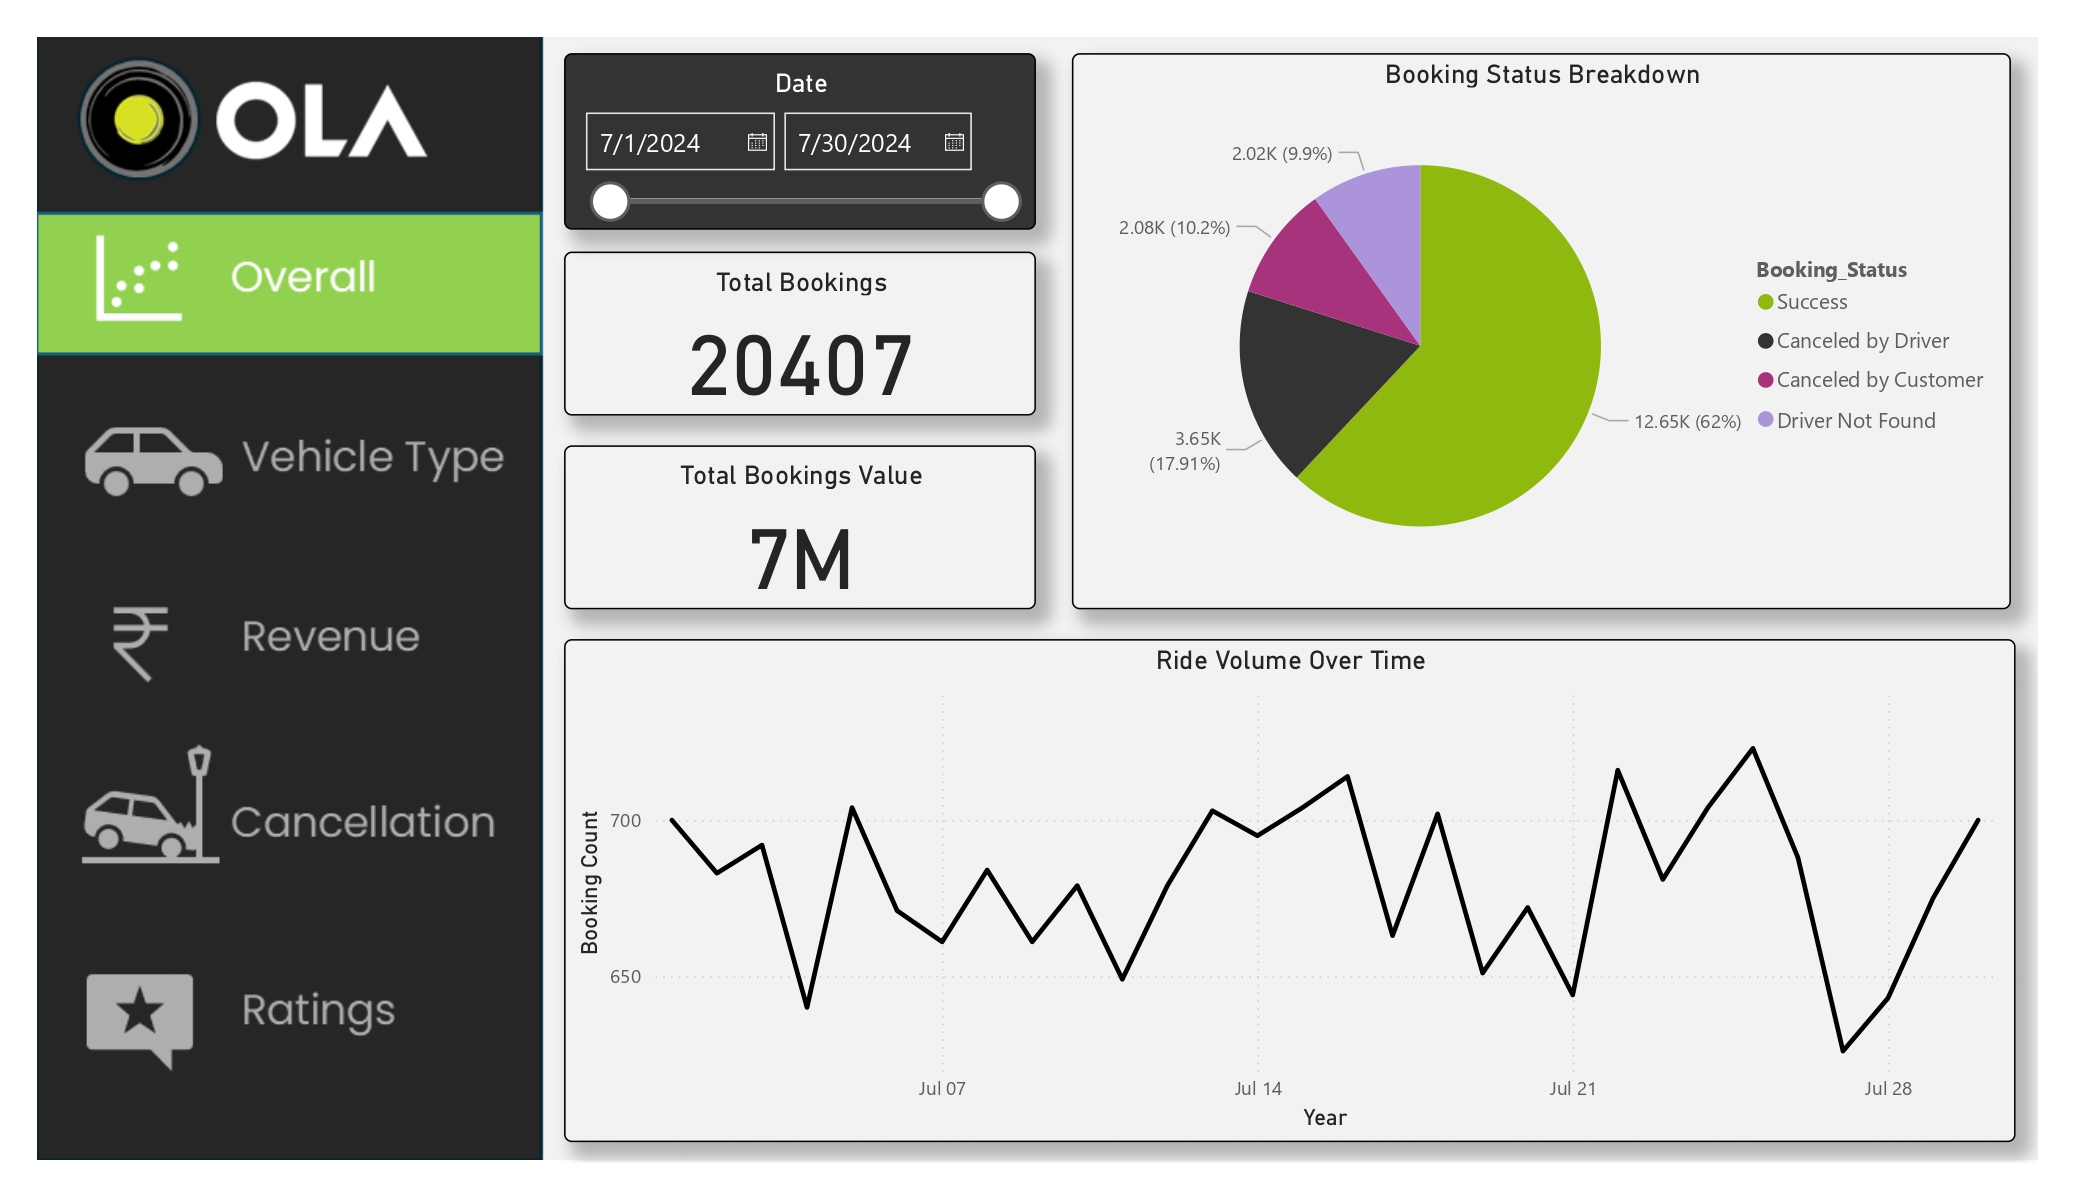

What the dashboard file says about the page in this screenshot:
{"tool":"powerbi","page":{"name":"Overall","canvas":[1280,720],"ordinal":0},"visuals":[{"type":"actionButton","box":[0,224,325,93],"z":0},{"type":"actionButton","box":[0,338,325,93],"z":1000},{"type":"actionButton","box":[0,447,325,93],"z":2000},{"type":"actionButton","box":[0,578,325,93],"z":3000},{"type":"lineChart","title":" Ride Volume Over Time","fields":{"Y":["CountNonNull(July.Booking_ID)"],"Category":["July.Date.Variation.Date Hierarchy.Year","July.Date.Variation.Date Hierarchy.Quarter","July.Date.Variation.Date Hierarchy.Month","July.Date.Variation.Date Hierarchy.Day"]},"box":[337.2,384.9,928.9,321.3],"z":4000},{"type":"pieChart","title":" Booking Status Breakdown","fields":{"Y":["CountNonNull(July.Booking_Status)"],"Category":["July.Booking_Status"]},"box":[661.7,9.5,601.3,356.3],"z":5000},{"type":"slicer","title":"Date","fields":{"Values":["July.Date"]},"box":[337.2,9.5,302.2,112.9],"z":6000},{"type":"card","title":"Total Bookings","fields":{"Values":["CountNonNull(July.Booking_ID)"]},"box":[337.2,136.8,302.2,105],"z":7000},{"type":"card","title":"Total Bookings Value","fields":{"Values":["Sum(July.Booking_Value)"]},"box":[337.2,260.9,302.2,105],"z":8000}]}

Visuals, with their boxes in screenshot pixels (x1, y1, x2, y2):
actionButton: crop(38, 388, 545, 533)
actionButton: crop(38, 566, 545, 711)
actionButton: crop(38, 736, 545, 881)
actionButton: crop(38, 941, 545, 1086)
" Ride Volume Over Time" lineChart: crop(564, 639, 2016, 1141)
" Booking Status Breakdown" pieChart: crop(1071, 52, 2011, 609)
"Date" slicer: crop(564, 52, 1037, 229)
"Total Bookings" card: crop(564, 251, 1037, 415)
"Total Bookings Value" card: crop(564, 445, 1037, 609)
